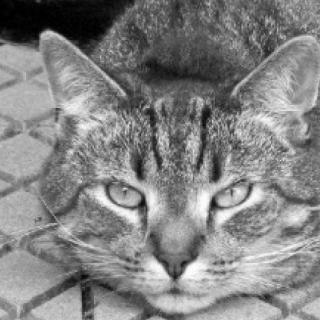cat: (30, 20, 320, 318)
nose: (146, 207, 211, 280)
